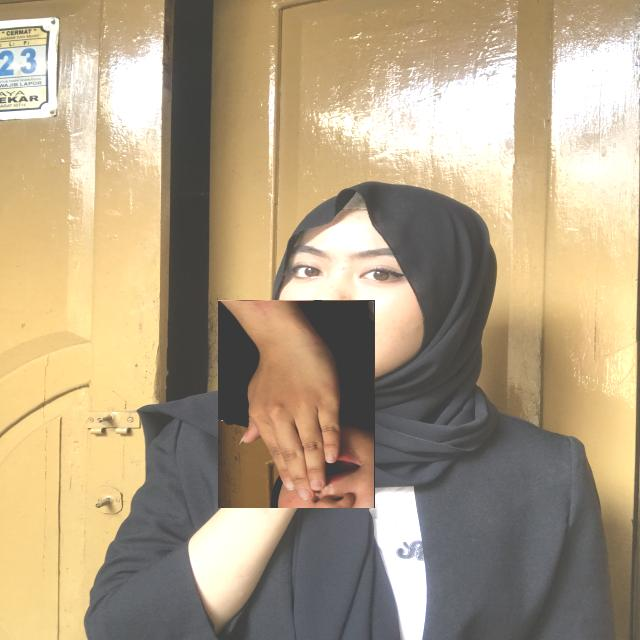ngantuk: (218, 300, 375, 508)
